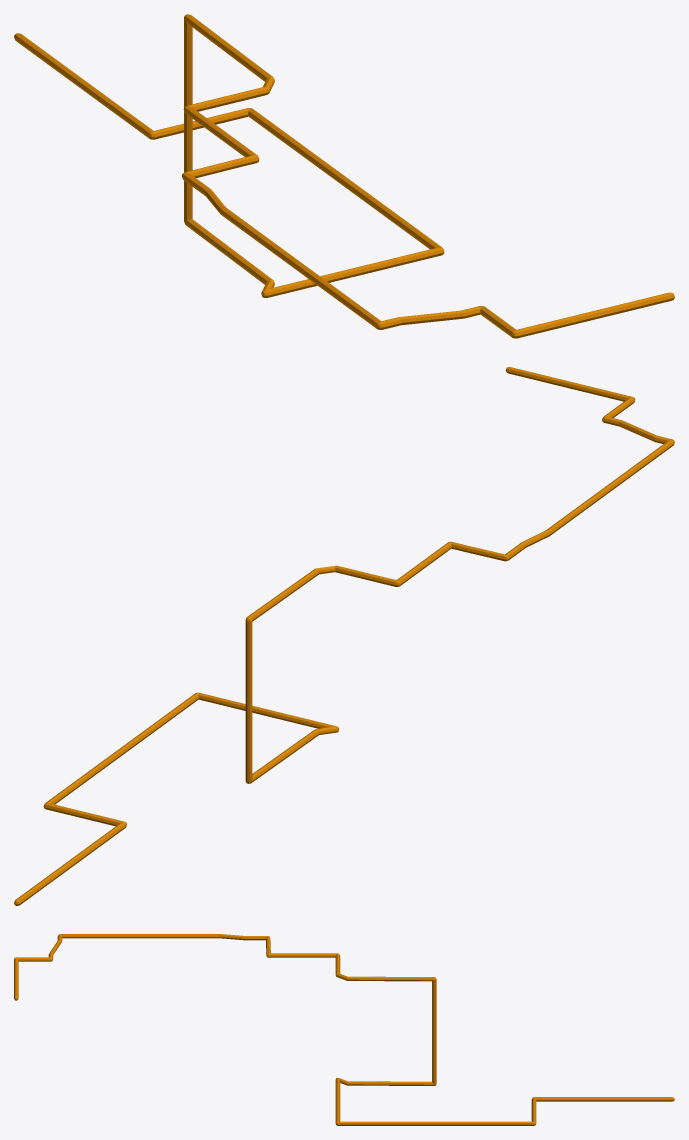
3 views of the same model, one above another, from view 1: azimuth 30°, elevation 25°; view 2: azimuth 150°, elevation 25°; view 3: azimuth 270°, elevation 25° (orthographic). The views are drawn at different scales.
Bounding box in the file's own units: 869 × 520 × 2863.
